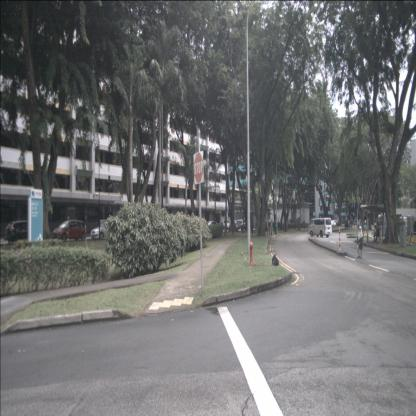human-pedestrian-adult: (356, 226, 363, 260), (372, 224, 378, 242), (376, 221, 380, 244), (379, 221, 383, 244), (413, 220, 416, 245), (303, 219, 305, 229)
vehicle-bicycle: (407, 230, 416, 247), (405, 230, 415, 244)
vehicle-car: (5, 220, 36, 245), (53, 220, 87, 241), (91, 221, 118, 240), (308, 218, 332, 238), (240, 218, 252, 232), (205, 221, 220, 232), (344, 220, 352, 228), (232, 220, 238, 230)
vehicle-truck: (216, 218, 230, 230)
